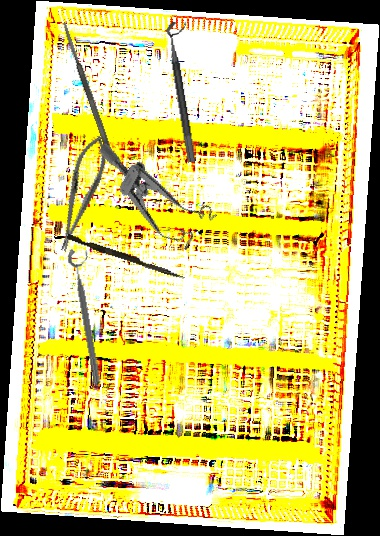Fixation Ring: (66, 246, 112, 386), (165, 20, 208, 163)
Needle Holder: (47, 131, 115, 256)
Pusher: (65, 234, 187, 280)
Spatula Surgical: (60, 20, 115, 158)
Speculum: (76, 141, 224, 257)
